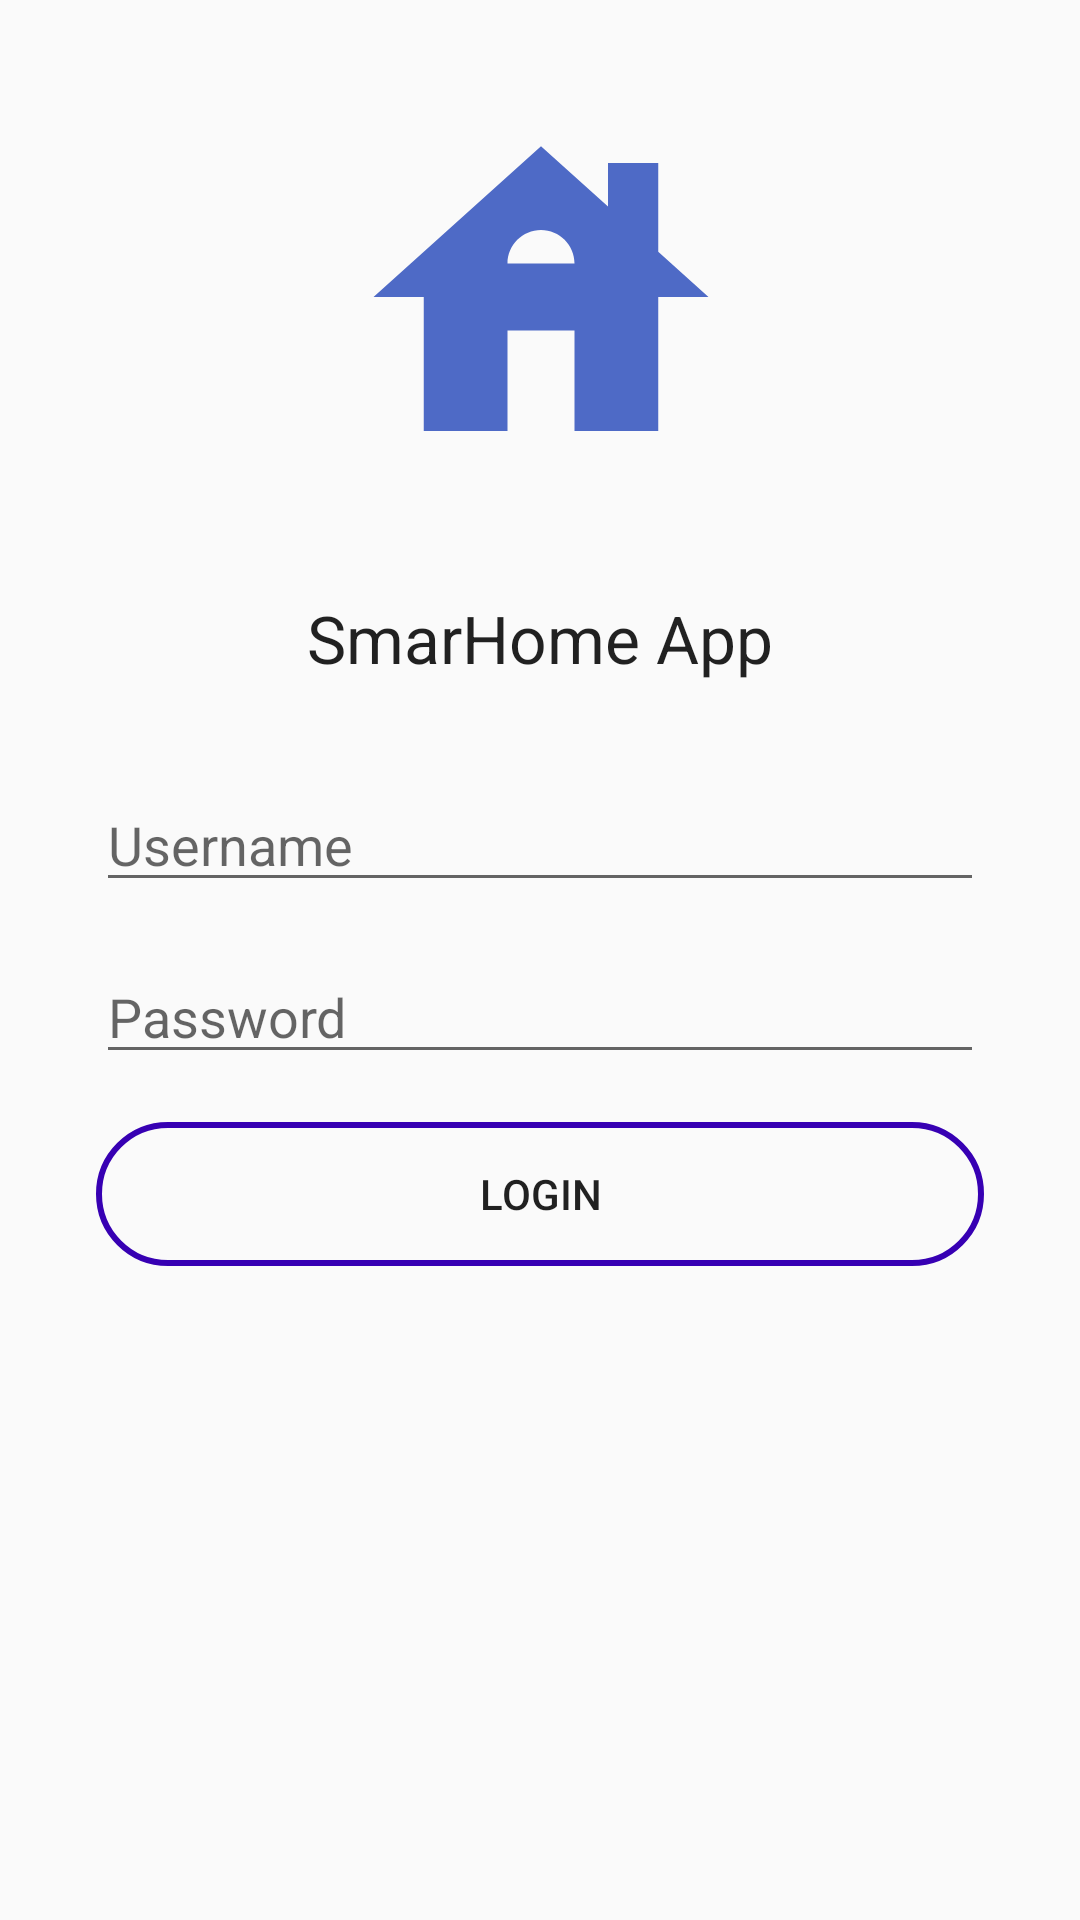

Locate icon controls on the screen. Image size 1080px x 1920px, boxes as (x1, y1, x2, y2).
casa: (374, 146, 708, 431)
